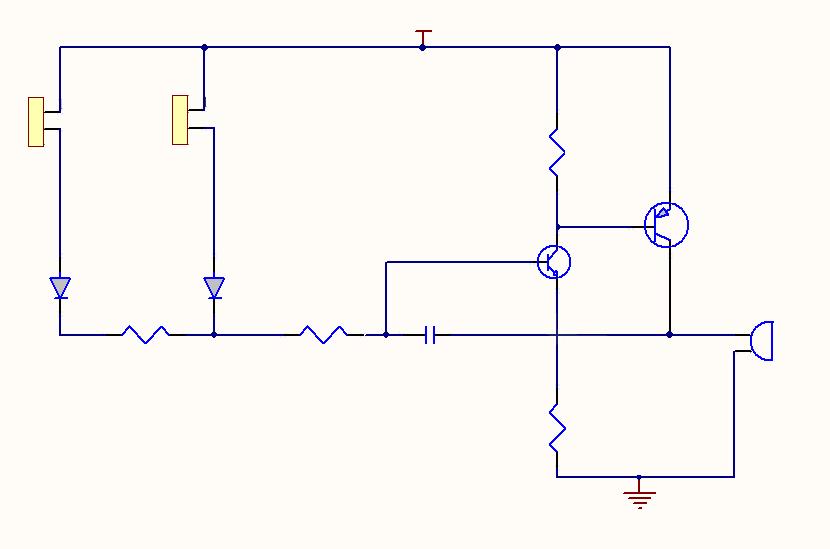Anode: (412, 24, 435, 41)
Capacitor: (420, 323, 439, 347)
Diode: (199, 270, 228, 304), (46, 272, 76, 303)
Grounding node: (619, 486, 660, 514)
Other: (748, 318, 778, 365)
Relay: (27, 93, 46, 150), (170, 93, 190, 146)
Resistor: (292, 322, 355, 349), (115, 320, 173, 348), (545, 400, 570, 457), (546, 120, 568, 180)
Transistor: (638, 199, 692, 251), (533, 241, 574, 283)
